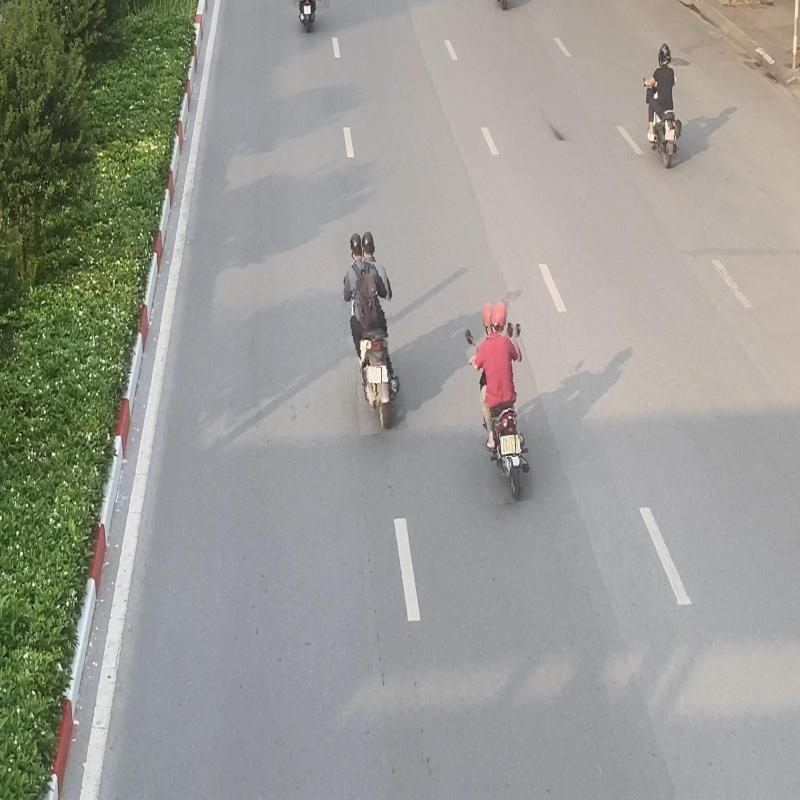helmet: (490, 300, 508, 333), (362, 230, 376, 262), (658, 44, 672, 64)
licenseplate: (500, 435, 516, 458), (368, 366, 382, 383), (665, 128, 676, 140)
motorcyclist: (466, 299, 529, 504), (339, 227, 401, 434), (642, 43, 682, 169)
